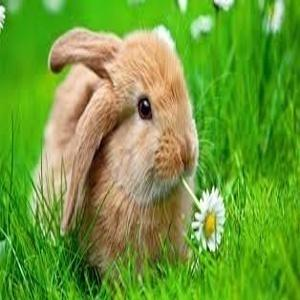rabbit: (47, 25, 200, 276)
